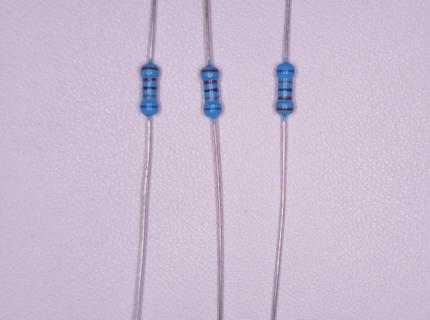Black band: (143, 87, 157, 90), (204, 89, 218, 92), (278, 88, 292, 91)
Blue band: (276, 70, 294, 73), (204, 107, 221, 110), (141, 106, 158, 108)
Brown band: (141, 67, 159, 70), (276, 108, 294, 111), (202, 70, 219, 72)
Grey band: (205, 97, 219, 100), (278, 81, 292, 84), (143, 95, 156, 98)
Red band: (204, 80, 217, 85), (278, 96, 292, 100), (143, 78, 157, 81)
